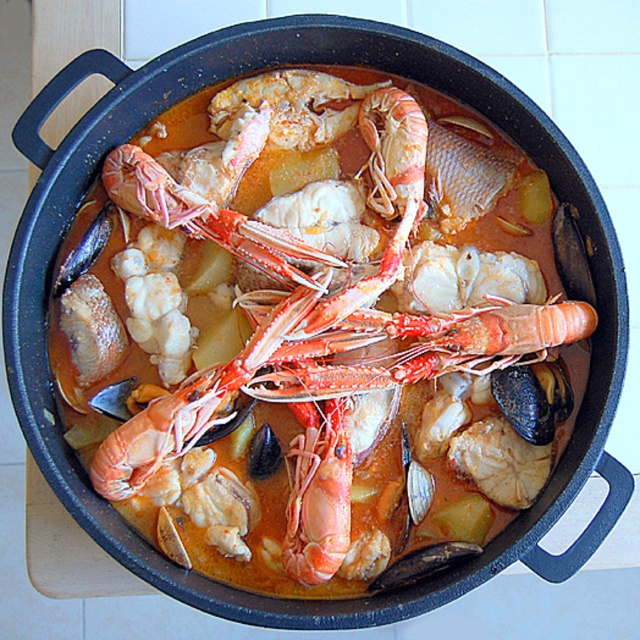Shrimp: (89, 85, 598, 589)
